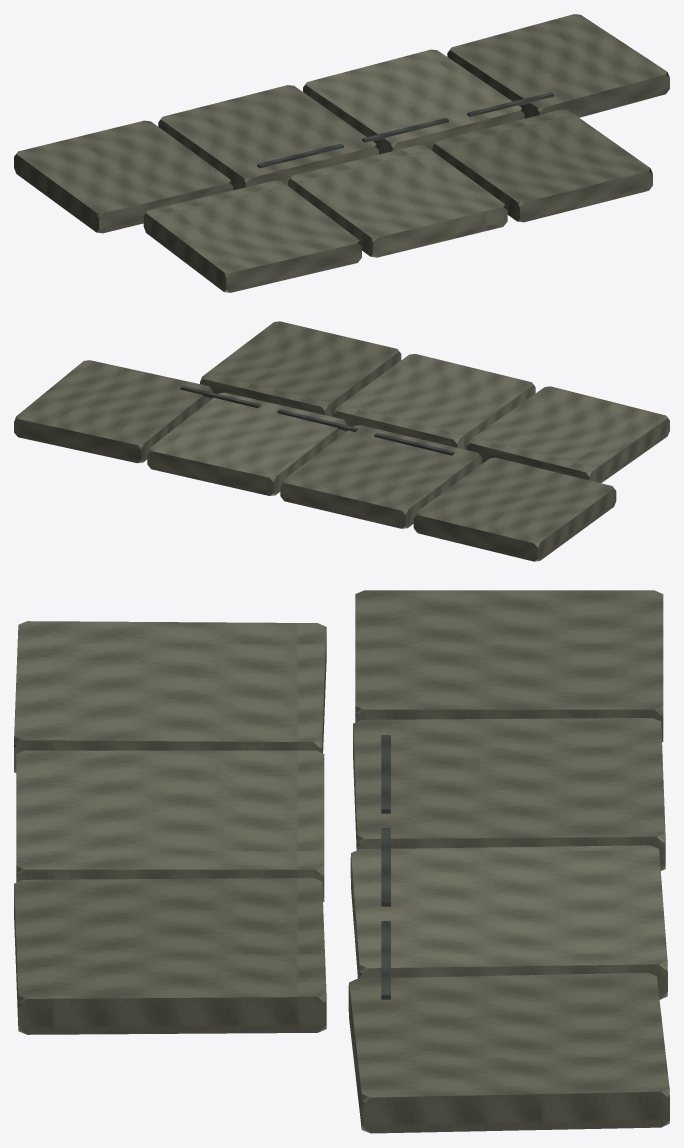
File: cataclysm_upland_paving.glb
3 views of the same model, one above another, from view 1: azimuth 30°, elevation 25°; view 2: azimuth 150°, elevation 25°; view 3: azimuth 270°, elevation 25° (orthographic). The views are drawn at different scales.
Parts seen in each view (by area): view 1: cataclysm_upland_paving; view 2: cataclysm_upland_paving; view 3: cataclysm_upland_paving.
Boxes of the visible parts, x1,y1,x2,y2 form: cataclysm_upland_paving: (14,14,669,292); cataclysm_upland_paving: (14,321,669,561); cataclysm_upland_paving: (14,590,669,1133).
Bounding box in the file's own units: 2.73 × 0.101 × 1.49.
Materials: 1 (1 with a texture image).
